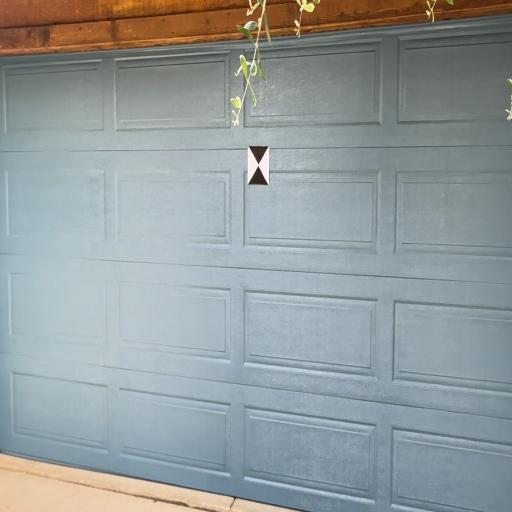target: (247, 146, 269, 184)
